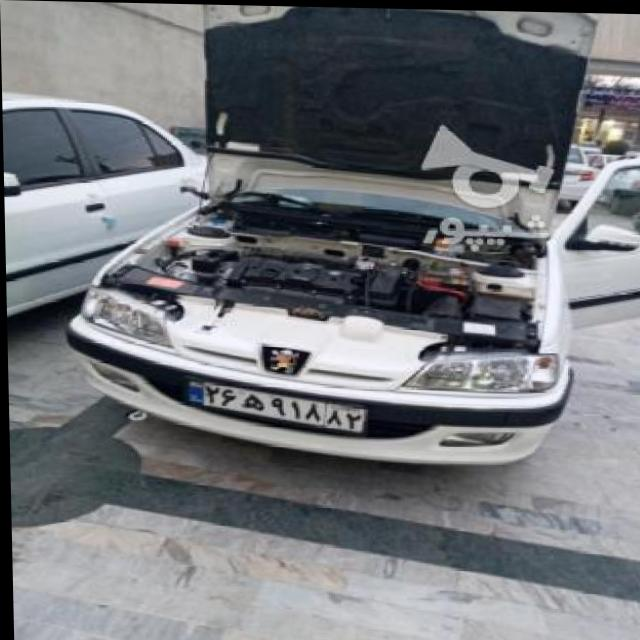licence: (181, 372, 362, 434)
